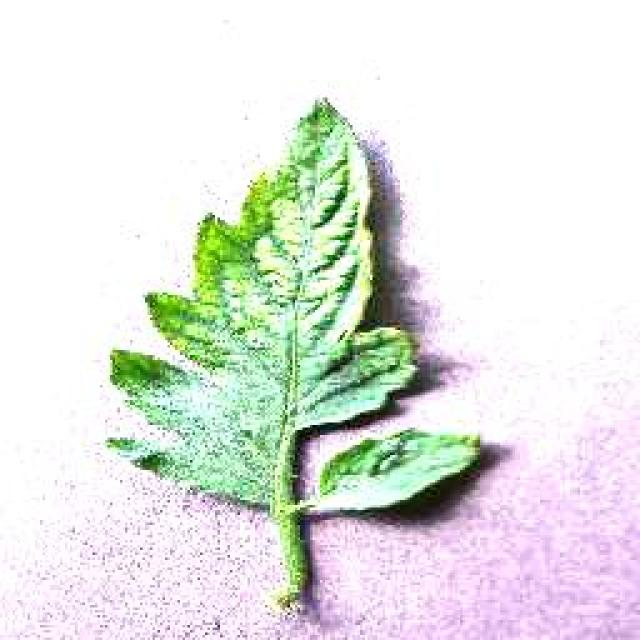Tomato___Tomato_mosaic_virus: (105, 100, 478, 608)
